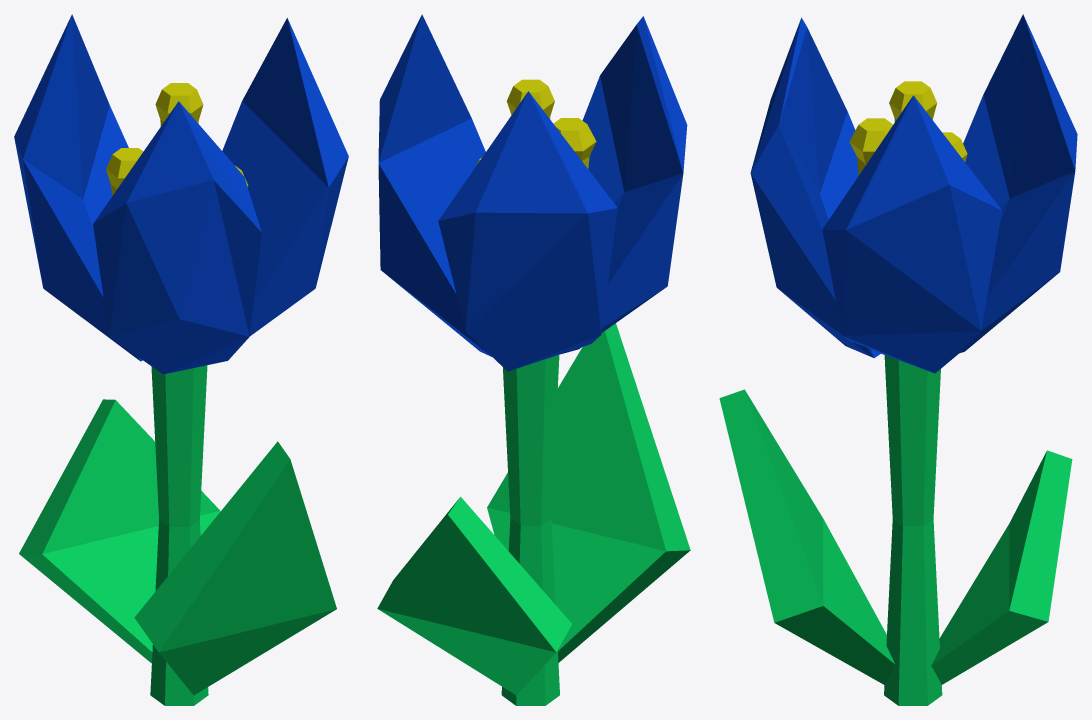
Rendered from Flower04.fbx.
The picture shows the model from 3 angles, left to right: view 1: azimuth 30°, elevation 25°; view 2: azimuth 150°, elevation 25°; view 3: azimuth 270°, elevation 25°; orthographic projection.
Parts seen in each view (by area): view 1: Cube.002; view 2: Cube.002; view 3: Cube.002.
Part boxes in pixels (box(x1,y1,x2,y2)): Cube.002: box(14, 14, 348, 705); Cube.002: box(377, 14, 690, 705); Cube.002: box(719, 14, 1077, 705).
Bounding box in the file's own units: 15.32 × 37.18 × 18.41.
